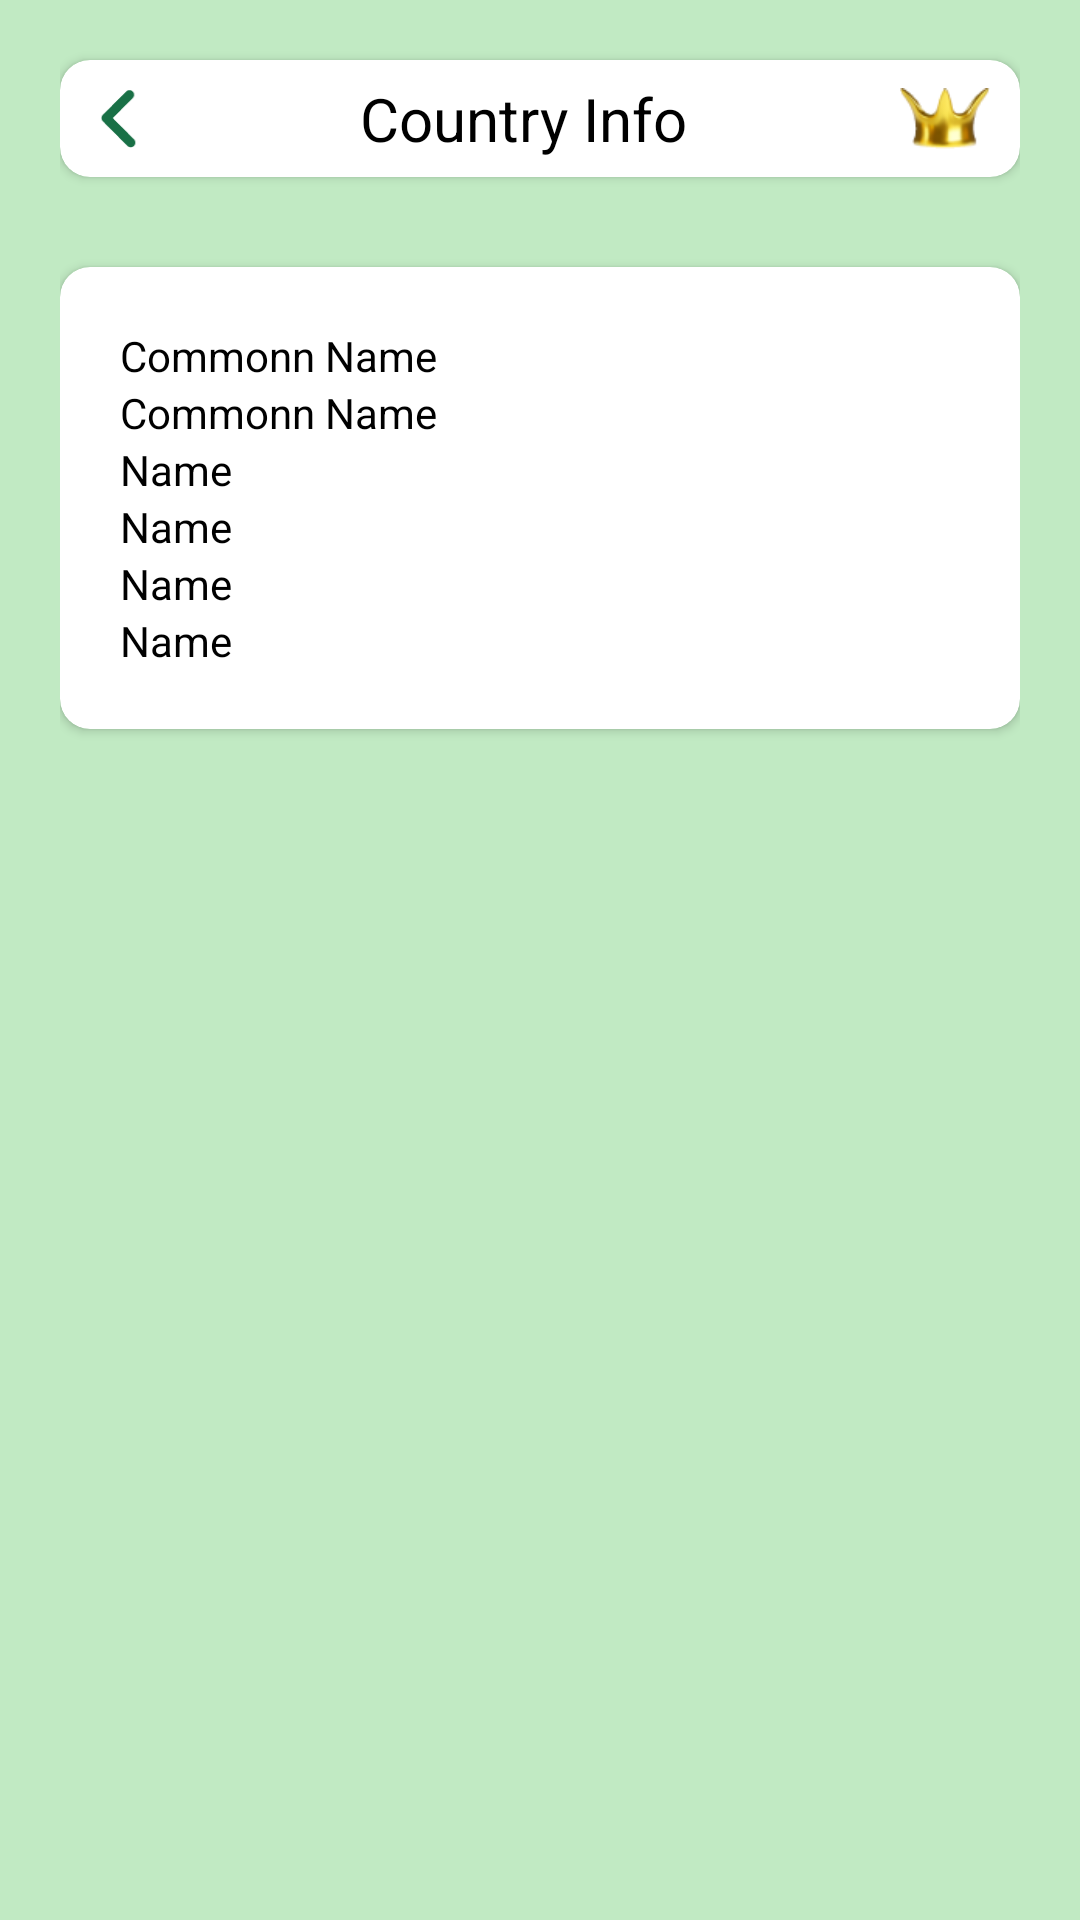

Locate icon controls on the screen. Image size 1080x1920, boxes as (x1, y1, x2, y2).
headcap: (900, 88, 989, 148)
